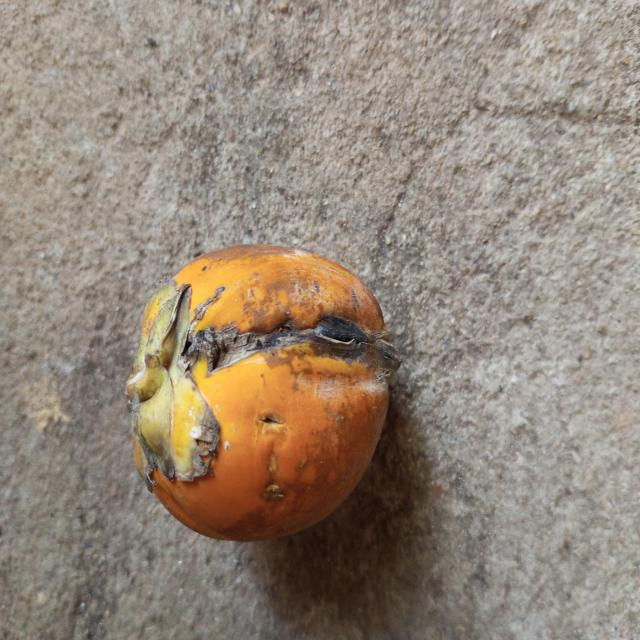damaged: (126, 246, 399, 545)
